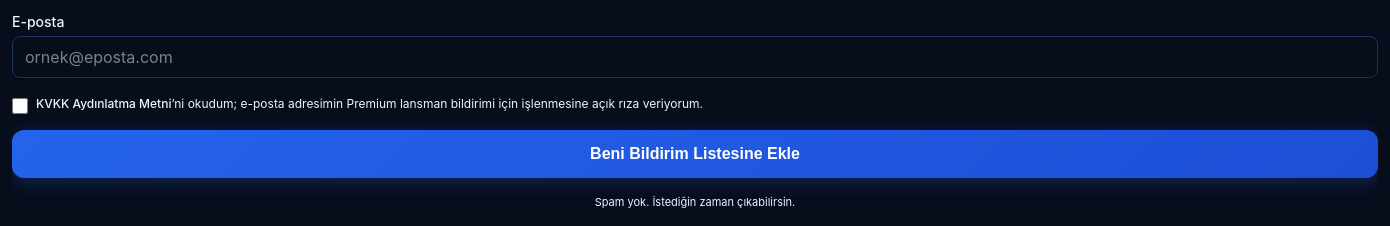
it: WaitlistForm › gecerli submit: /api/premium/waitlist endpointine plan + email + kvkkConsent gonderir
Type "user@example.com" into the field labelled "E-posta" at (695,57), box x1=12 y1=36 x2=1378 y2=78
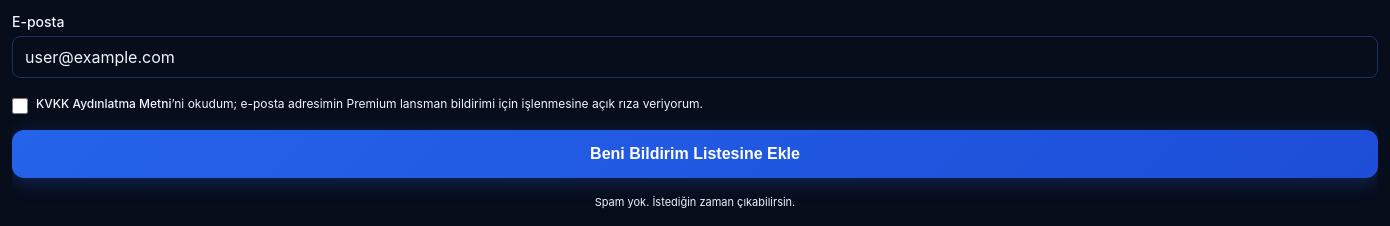
Click the checkbox labelled "KVKK" at (20,106), box x1=12 y1=98 x2=28 y2=114
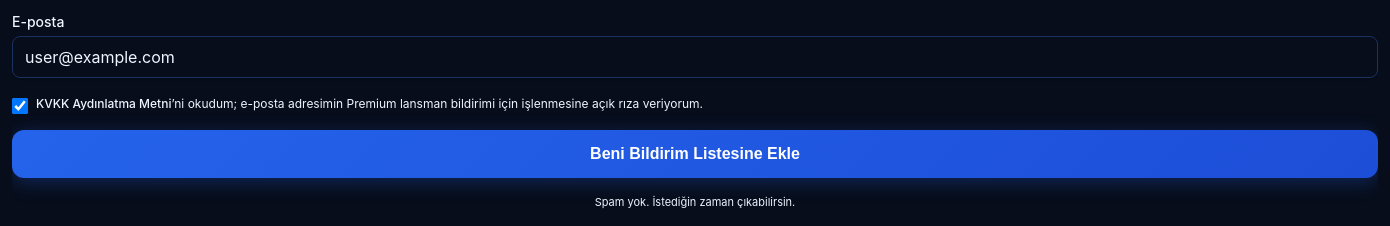
Click the button "Beni Bildirim Listesine Ekle" at (695,154), box x1=12 y1=130 x2=1378 y2=178
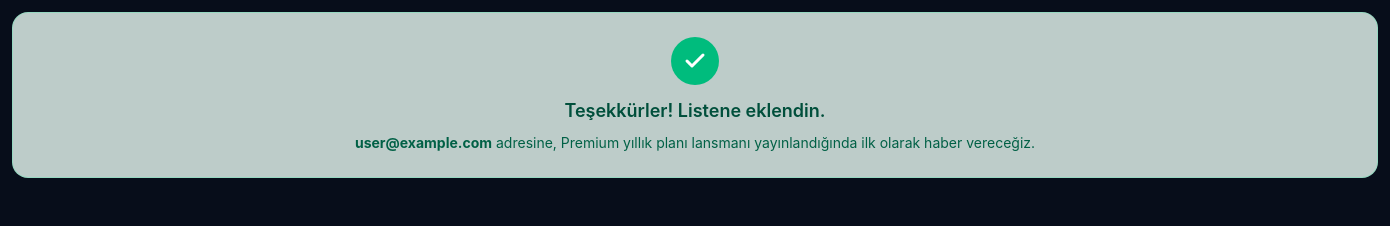
Result: the text "user@example.com" is shown at x1=355 y1=134 x2=492 y2=151
